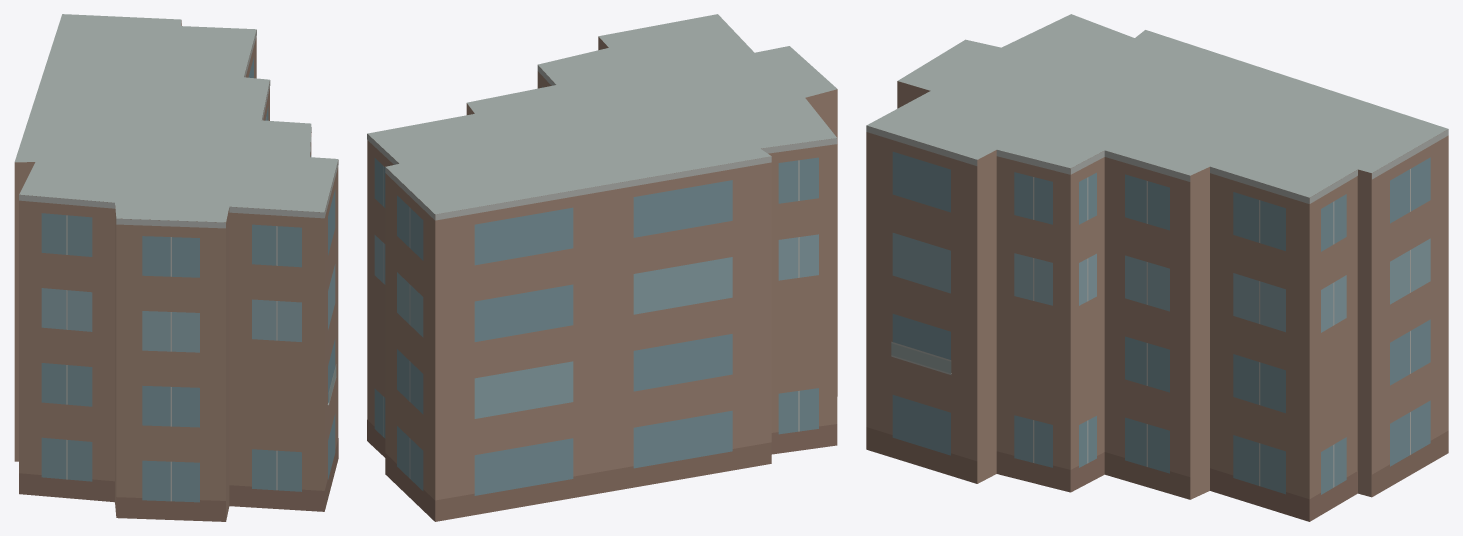
Rendered from survey-upis-33042716.glb.
The picture shows the model from 3 angles, left to right: view 1: azimuth 30°, elevation 25°; view 2: azimuth 150°, elevation 25°; view 3: azimuth 270°, elevation 25°; orthographic projection. The views are drawn at different scales.
Visible parts, largest first — view 1: survey-upis-33042716.tmp; view 2: survey-upis-33042716.tmp; view 3: survey-upis-33042716.tmp.
Boxes of the visible parts, x1,y1,x2,y2 form: survey-upis-33042716.tmp: [14, 14, 338, 521]; survey-upis-33042716.tmp: [367, 14, 837, 521]; survey-upis-33042716.tmp: [866, 14, 1448, 521].
Bounding box in the file's own units: 14.84 × 12.2 × 19.86.
